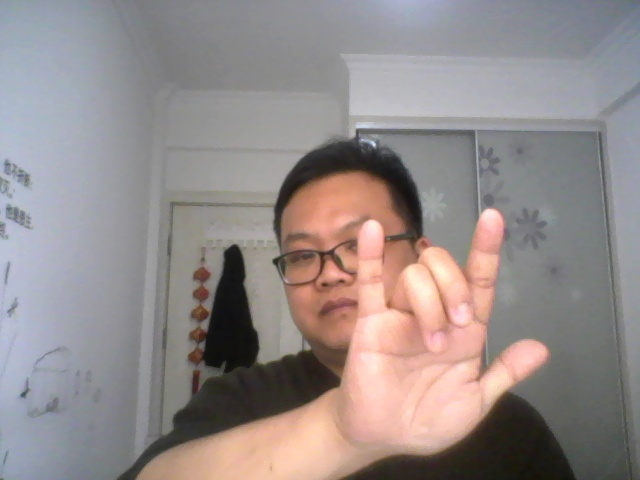I Love You: (337, 200, 555, 465)
